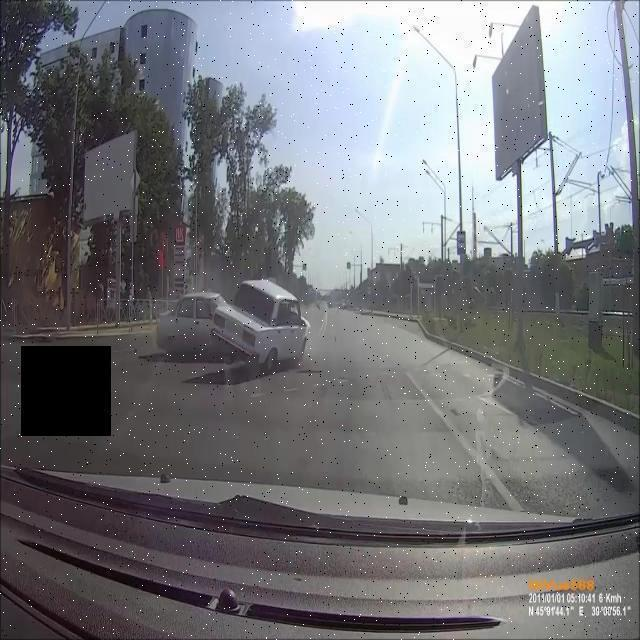accident: (153, 272, 311, 370)
